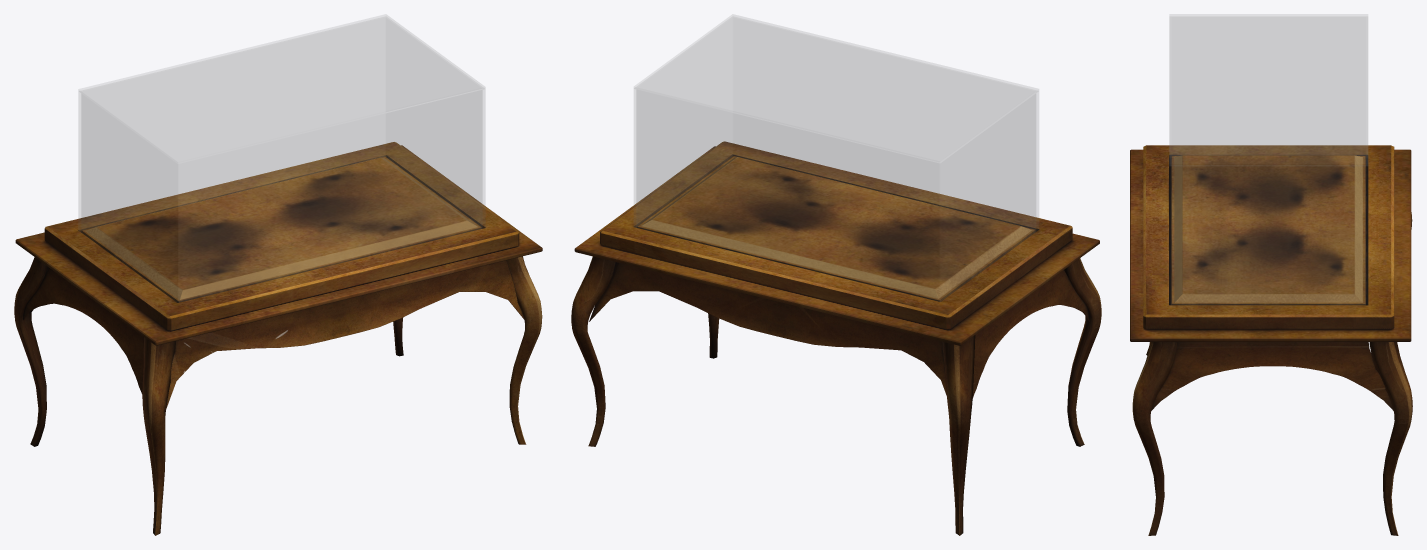
The model's file is Museum_Displaytable_04.FBX.
3 renders of one model, left to right at view 1: azimuth 30°, elevation 25°; view 2: azimuth 150°, elevation 25°; view 3: azimuth 270°, elevation 25°, orthographic.
Parts seen in each view (by area): view 1: Museum_Displaytable_04; view 2: Museum_Displaytable_04; view 3: Museum_Displaytable_04.
Boxes of the visible parts, left/top/right/bottom form: Museum_Displaytable_04: left=14, top=14, right=542, bottom=535; Museum_Displaytable_04: left=571, top=14, right=1101, bottom=535; Museum_Displaytable_04: left=1130, top=14, right=1412, bottom=535.
Size of the model in its own units: 1352 by 1166 by 837.
Materials: 2 (1 with a texture image).
